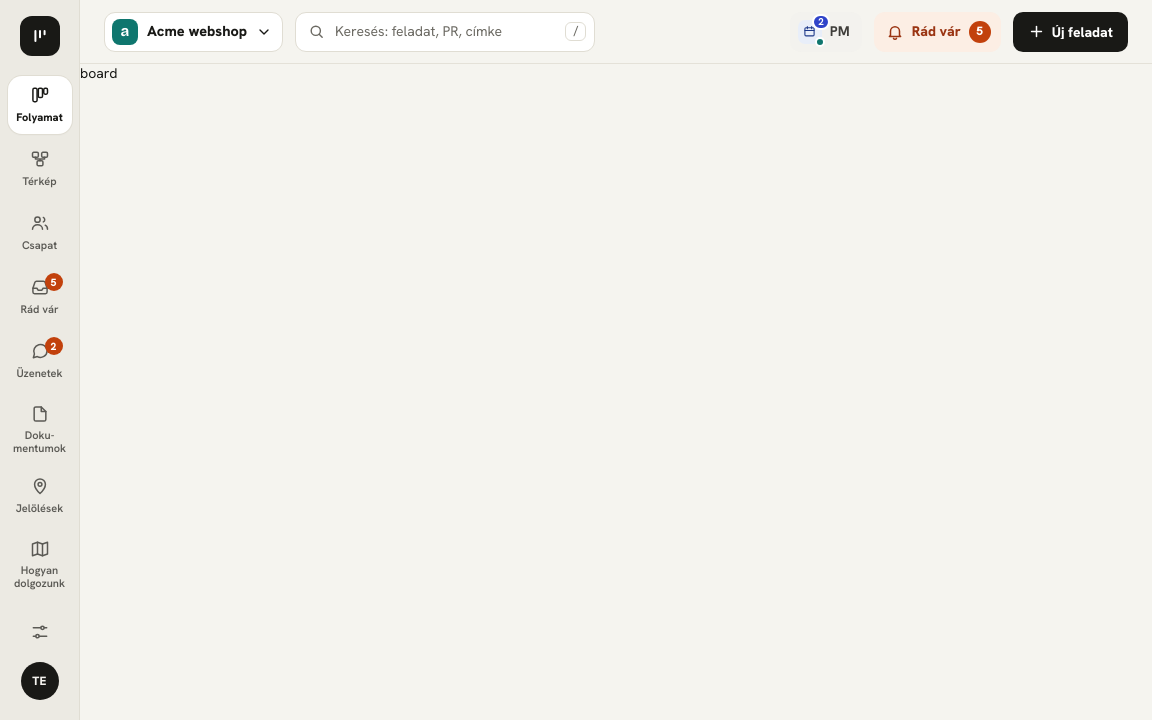
Test: the Sor view › lists what waits, with the item in work marked and the reason of a wait
This screenshot has width=1152, height=720.
Click the button "2 PM". click: (826, 32)
box: [790,12,862,52]
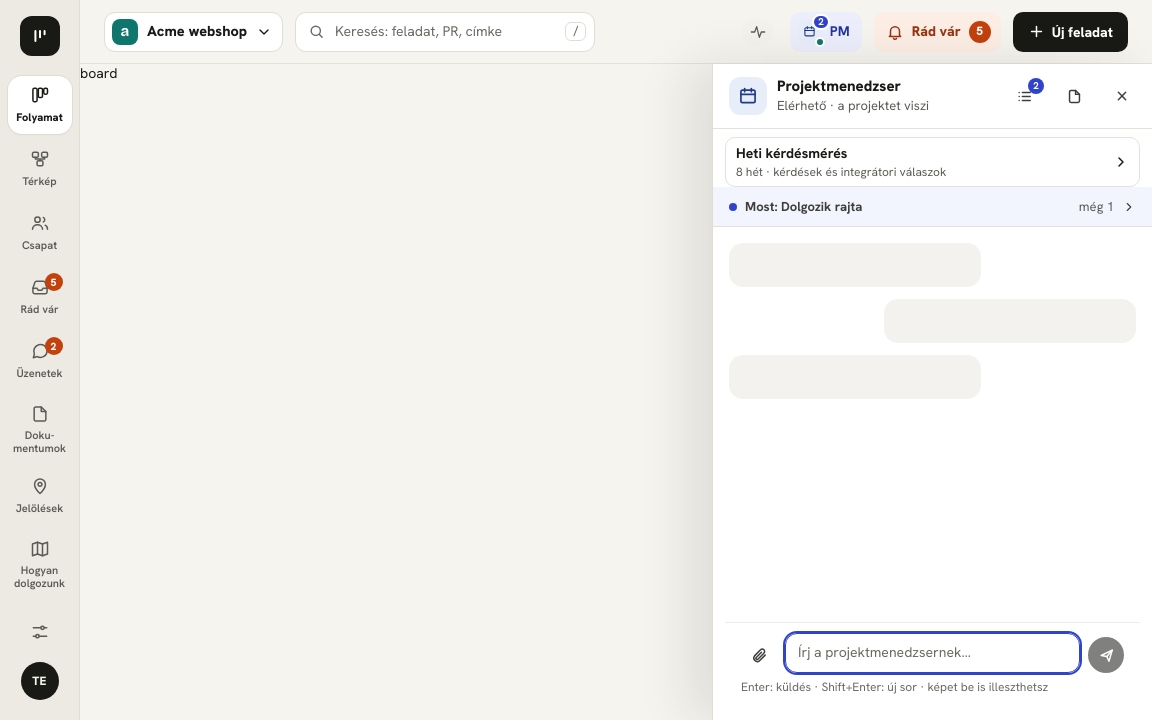
Click the button named "A projektmenedzser sora · 2 tétel". click: (1024, 96)
box: [1004,76,1044,116]
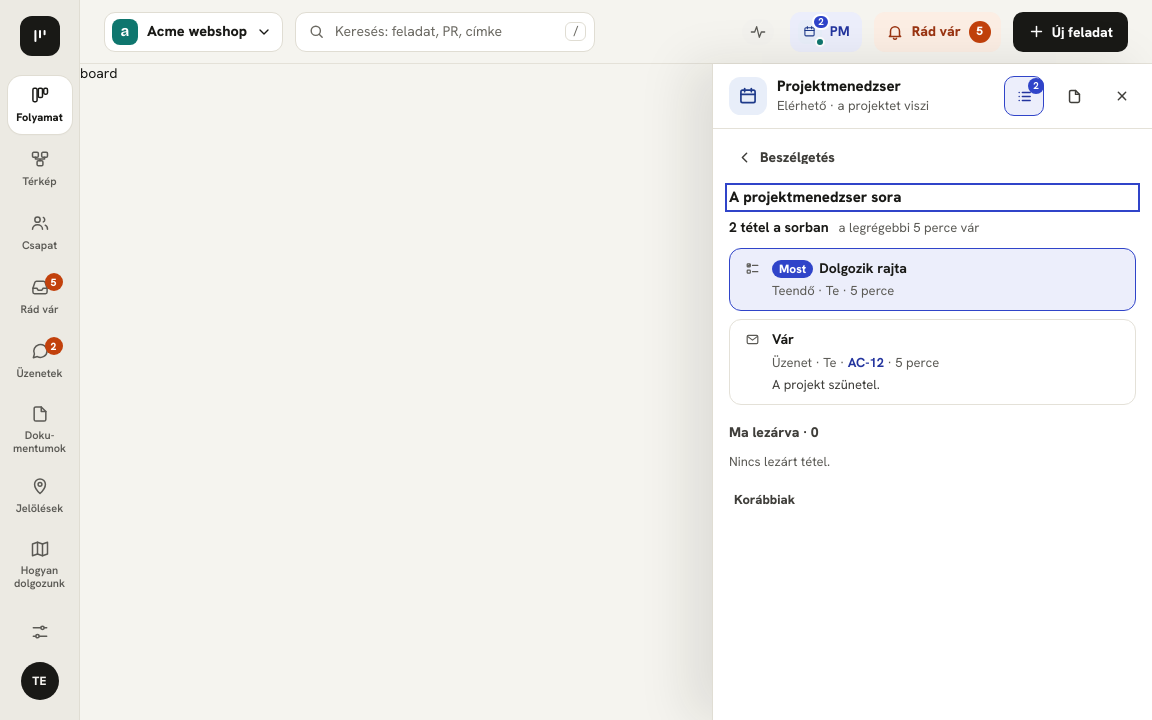
Expected: the heading "A projektmenedzser sora" is shown, [729,187,901,207]
Expected: the number of list items is 2, [729,248,1136,311]; [729,319,1136,405]
Expected: the list item that starts with "Most" is shown, [779,261,806,277]
